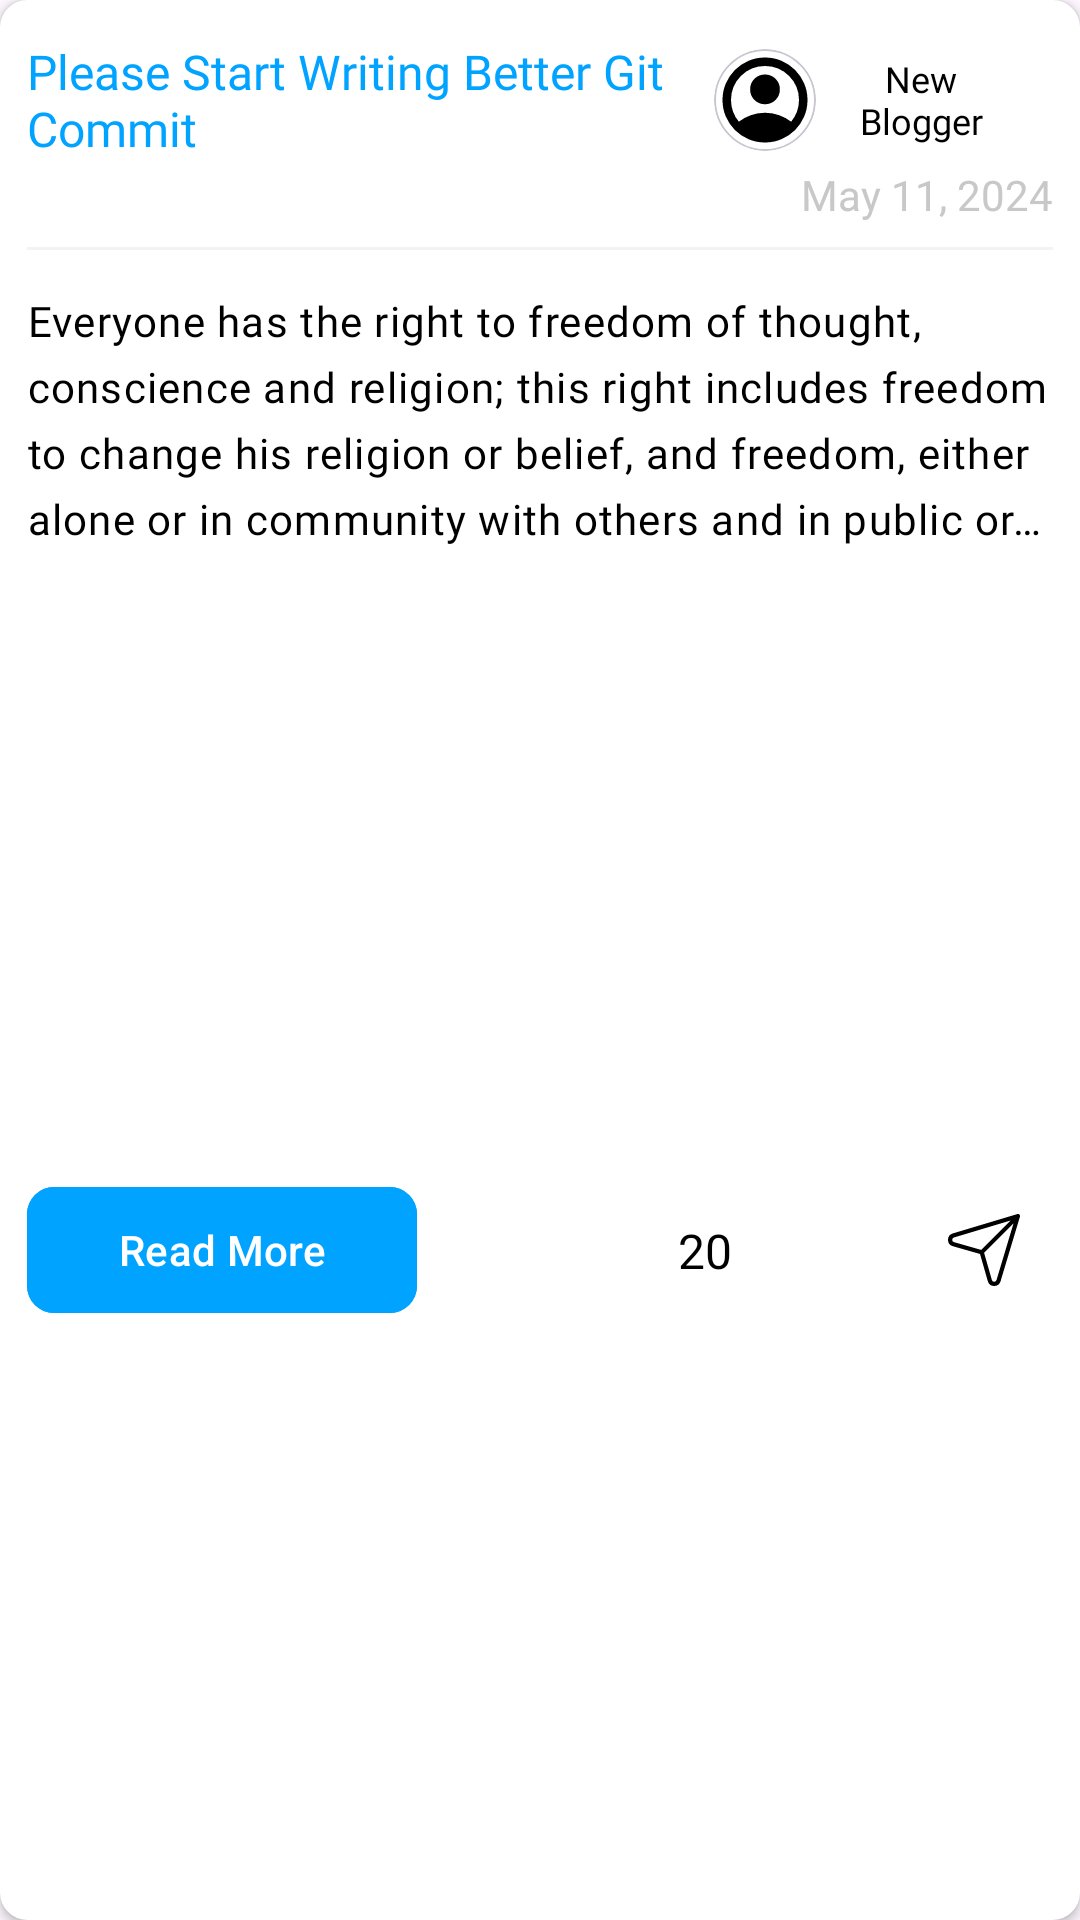

Point at icon controls on the screen. Image size 1080px x 1920px, points as (x=x, y=y).
Share: (x=984, y=1250)
